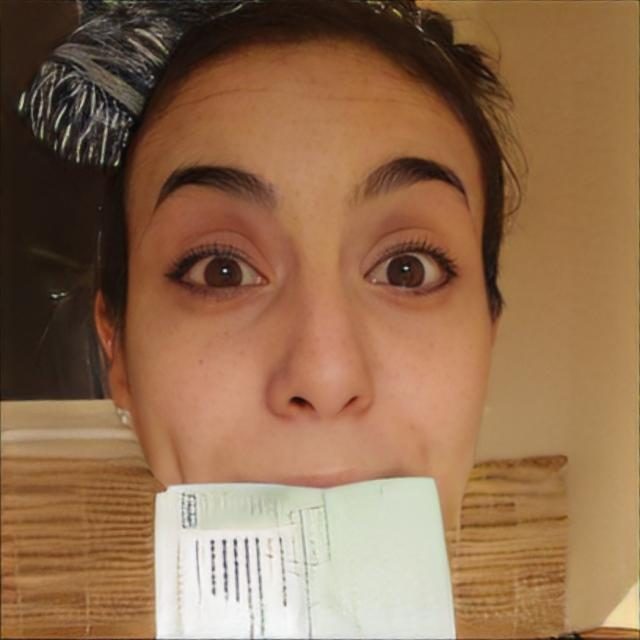surprise: (126, 41, 496, 586)
